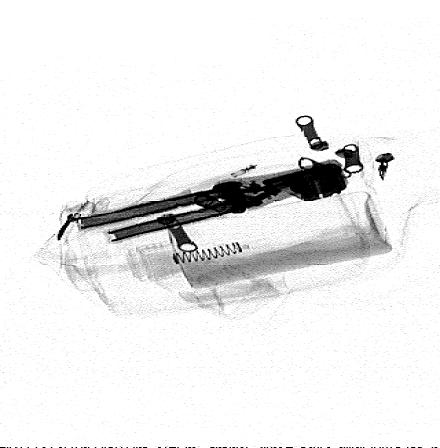Pliers: (71, 161, 348, 243)
